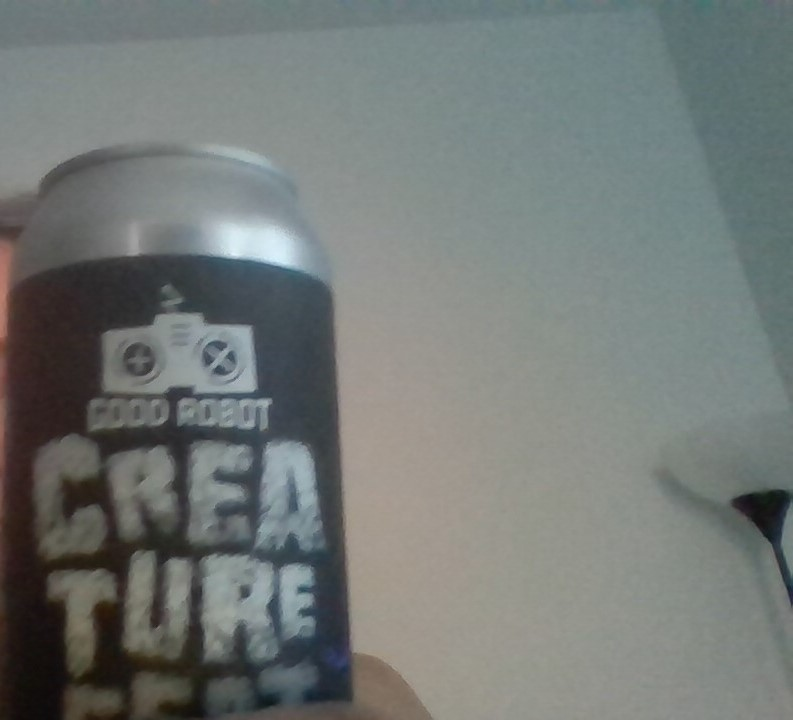Good Robot: (83, 277, 264, 395)
